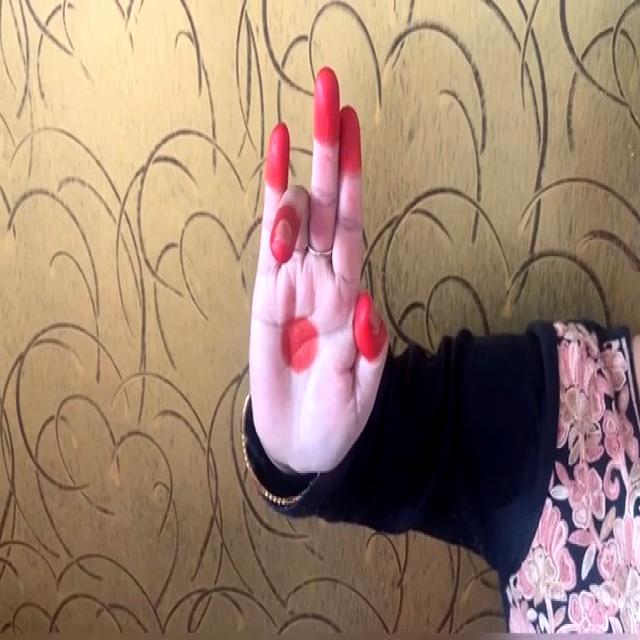Tripataka: (235, 55, 399, 514)
